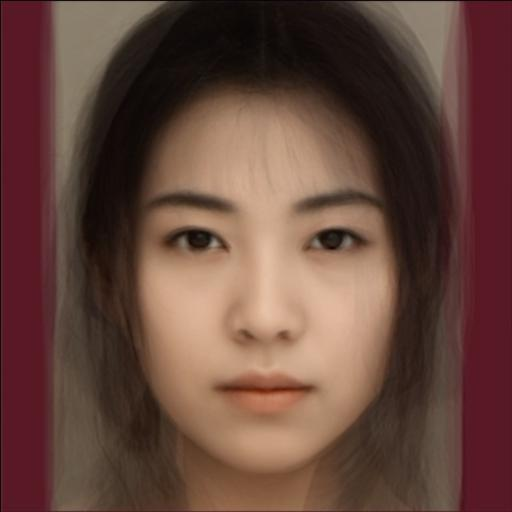left_eye: (300, 227, 370, 259)
left_lip_corner: (300, 377, 325, 401)
right_eye: (163, 228, 233, 259)
right_lip_corner: (205, 379, 235, 400)
